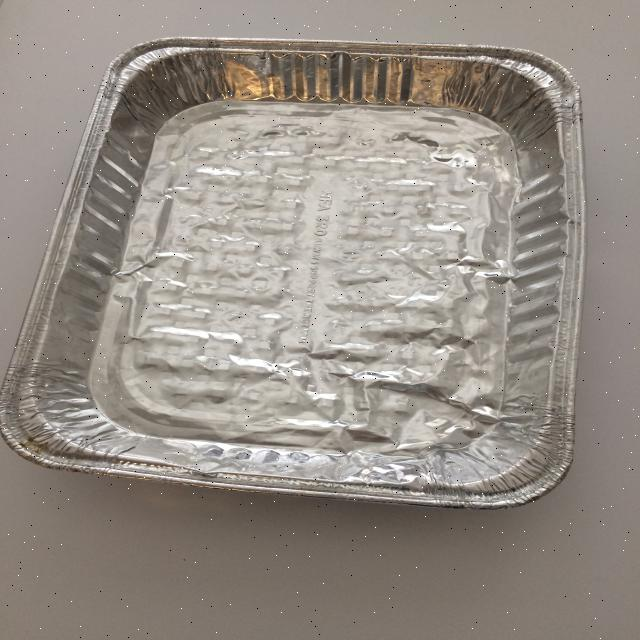metal: (1, 36, 588, 510)
